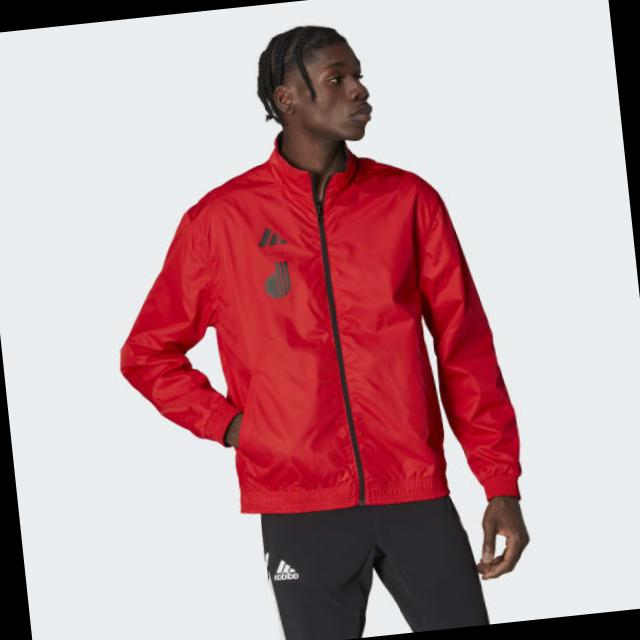Jacket: (98, 130, 544, 595)
